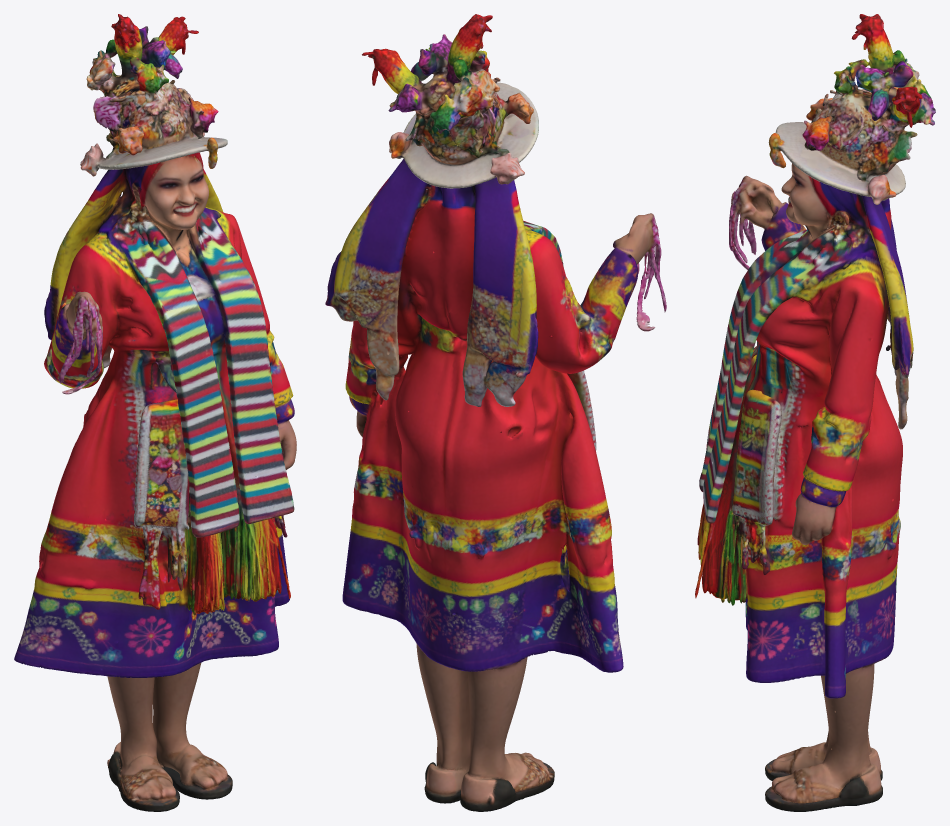
File: tinkusmujer.glb
3 renders of one model, left to right at view 1: azimuth 30°, elevation 25°; view 2: azimuth 150°, elevation 25°; view 3: azimuth 270°, elevation 25°, orthographic. The views are drawn at different scales.
Parts seen in each view (by area): view 1: tripo_node_9cf5670b-de51-48f9-a586-26d15b8723e3; view 2: tripo_node_9cf5670b-de51-48f9-a586-26d15b8723e3; view 3: tripo_node_9cf5670b-de51-48f9-a586-26d15b8723e3.
Boxes of the visible parts, left/top/right/bottom form: tripo_node_9cf5670b-de51-48f9-a586-26d15b8723e3: left=14, top=14, right=296, bottom=811; tripo_node_9cf5670b-de51-48f9-a586-26d15b8723e3: left=325, top=14, right=666, bottom=811; tripo_node_9cf5670b-de51-48f9-a586-26d15b8723e3: left=695, top=14, right=935, bottom=811.
Bounding box in the file's own units: 0.3724 × 1 × 0.2855.
Materials: 1 (1 with a texture image).
